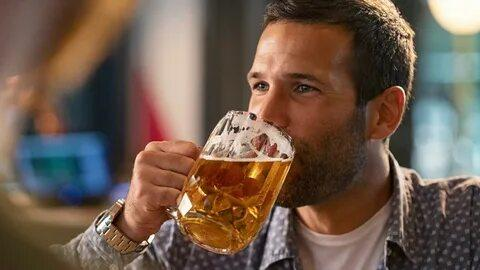Drinking: (138, 24, 405, 255)
